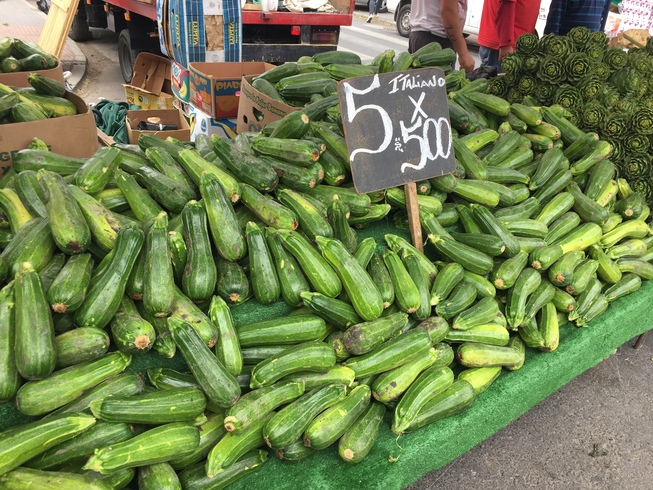precio: (331, 59, 474, 198)
